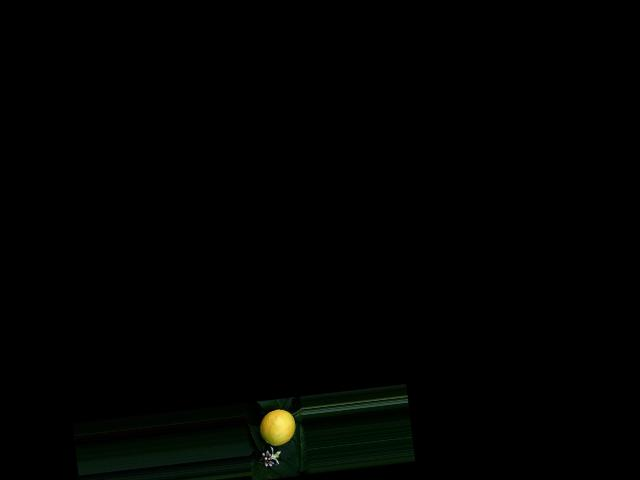lemon: (257, 404, 299, 448)
